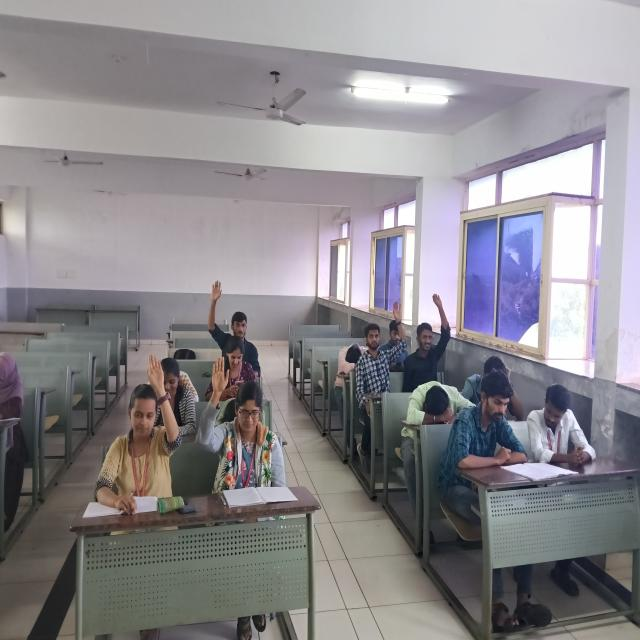Hand Rising: (95, 347, 184, 499), (199, 349, 284, 494), (206, 272, 258, 364), (359, 295, 406, 387), (410, 288, 450, 379)
Reading: (437, 372, 541, 481), (521, 374, 606, 476)
Sleeping: (401, 376, 485, 442), (332, 336, 376, 381)
Using Phone: (149, 353, 203, 442), (204, 338, 264, 402)
